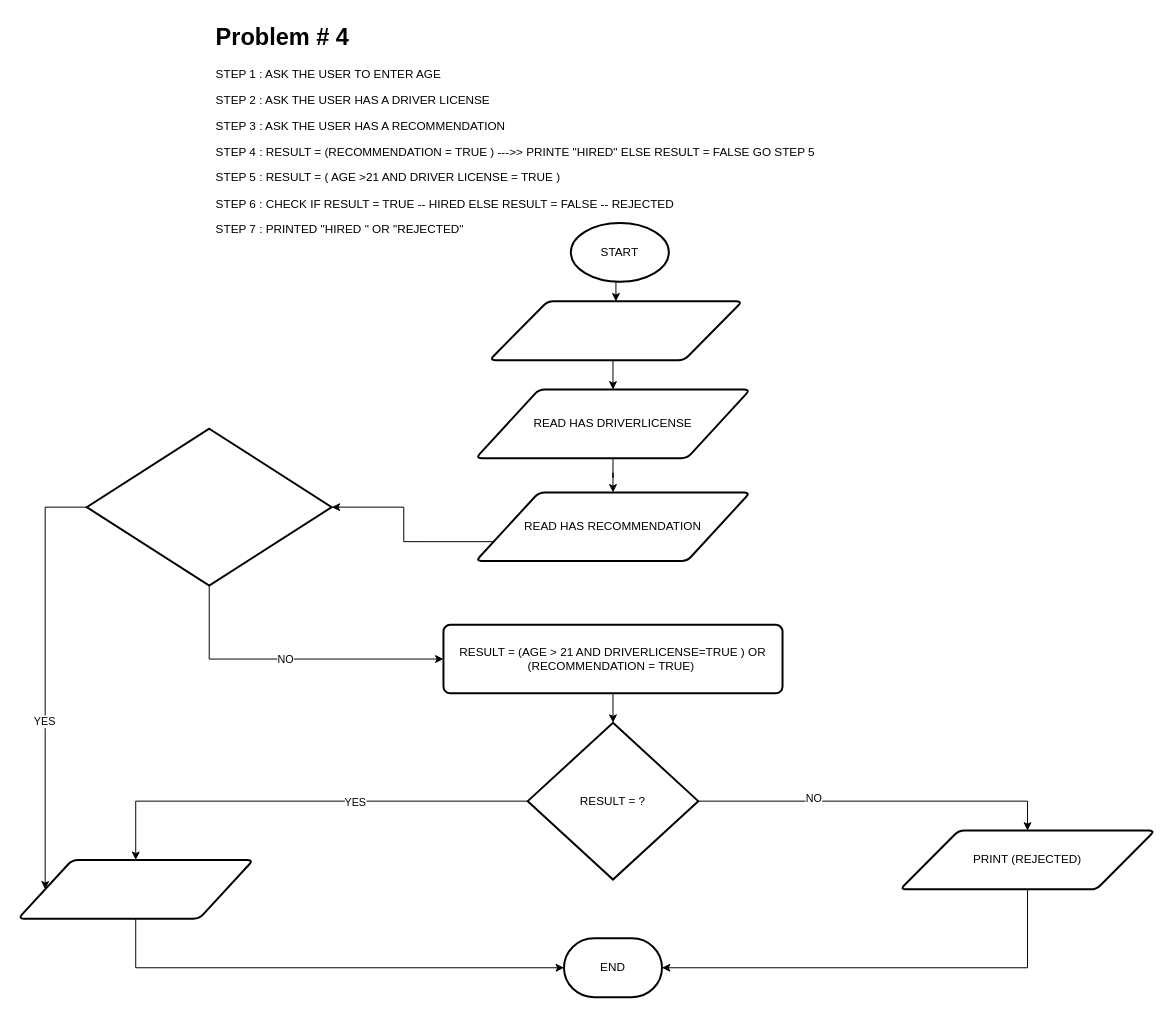
Some shapes in this 1172 by 1014 pixel diagram are drawn without their labels. The shapes that lost their labels are listed below. From the top down, each one's centre as x and y in pixels, then its label:
At pixel 615 330: "READ AGE".
At pixel 208 506: "RECOMMENDATION = TRUE".
At pixel 135 888: "PRINT (HIRED)".
